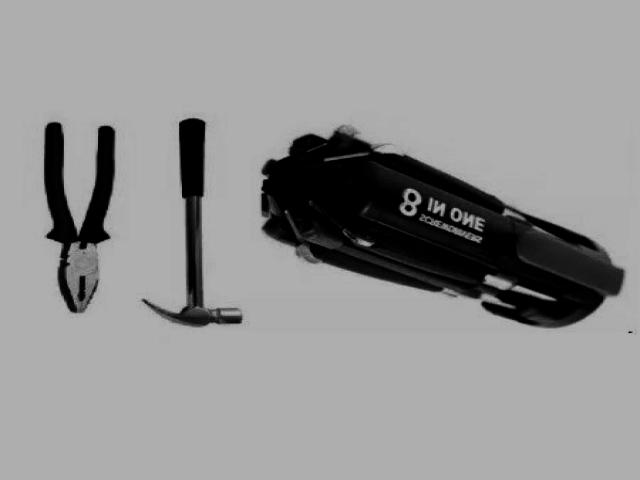Hammer: (142, 120, 242, 327)
Pliers: (45, 123, 115, 313)
